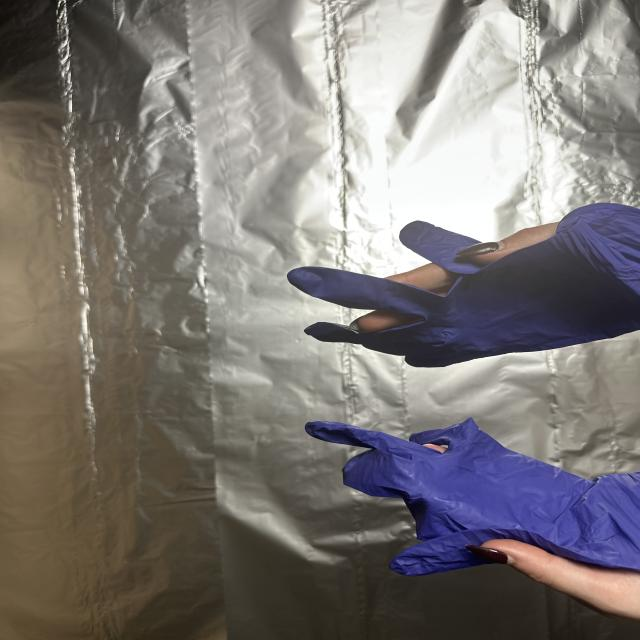glove_not_fitted: (300, 414, 640, 618), (286, 198, 632, 374)
